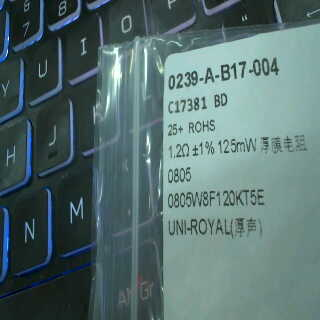1.2R: (165, 137, 192, 187)
